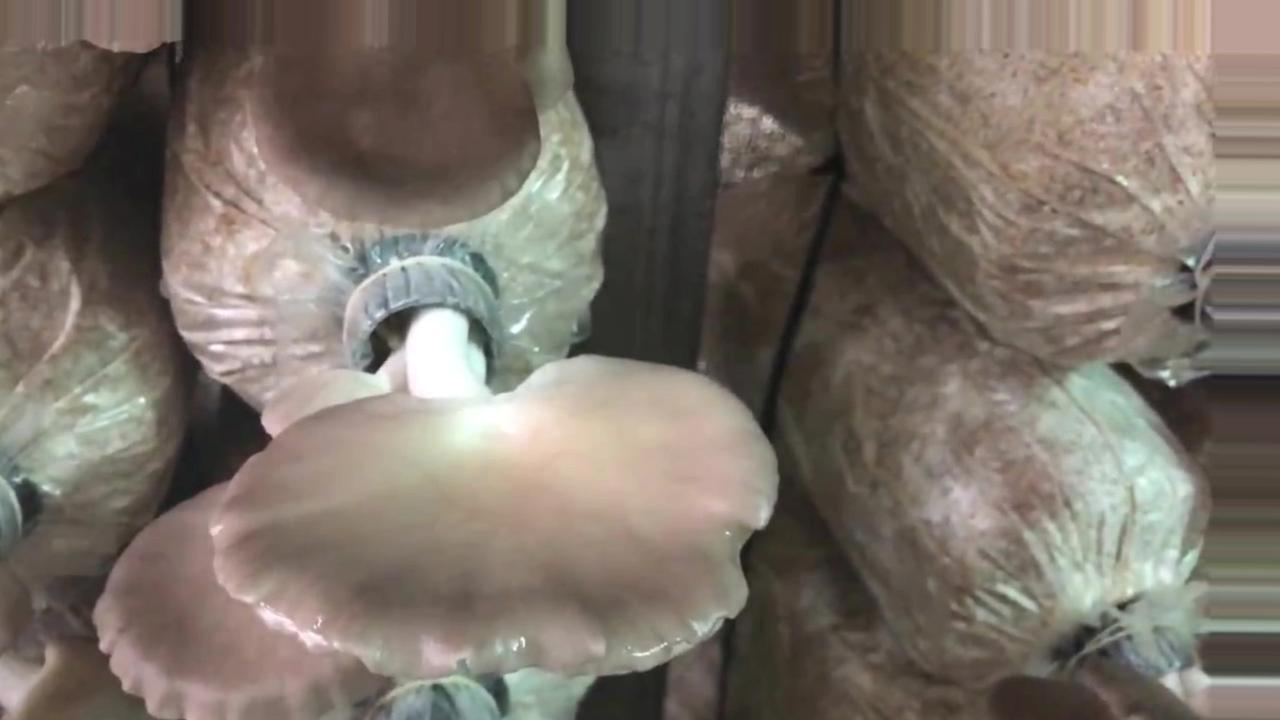nam: (211, 255, 786, 684), (256, 60, 545, 227)
